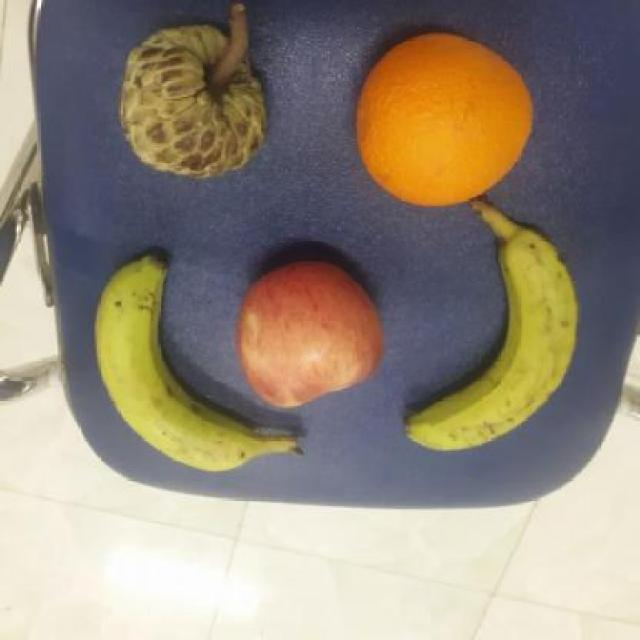apple: (238, 259, 385, 410)
banana: (93, 253, 309, 472), (402, 227, 581, 451)
oren: (355, 33, 533, 210)
sugar apple: (120, 26, 268, 180)
